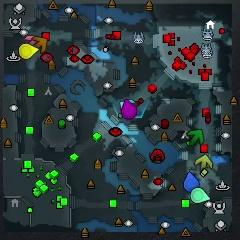p1: (183, 171, 200, 192)
p2: (190, 187, 210, 203)
p3: (121, 98, 137, 120)
p4: (18, 43, 39, 59)
x1: (24, 35, 38, 45)
x2: (195, 154, 213, 171)
x3: (120, 99, 136, 107)
x4: (188, 129, 204, 145)
x5: (33, 36, 47, 53)
